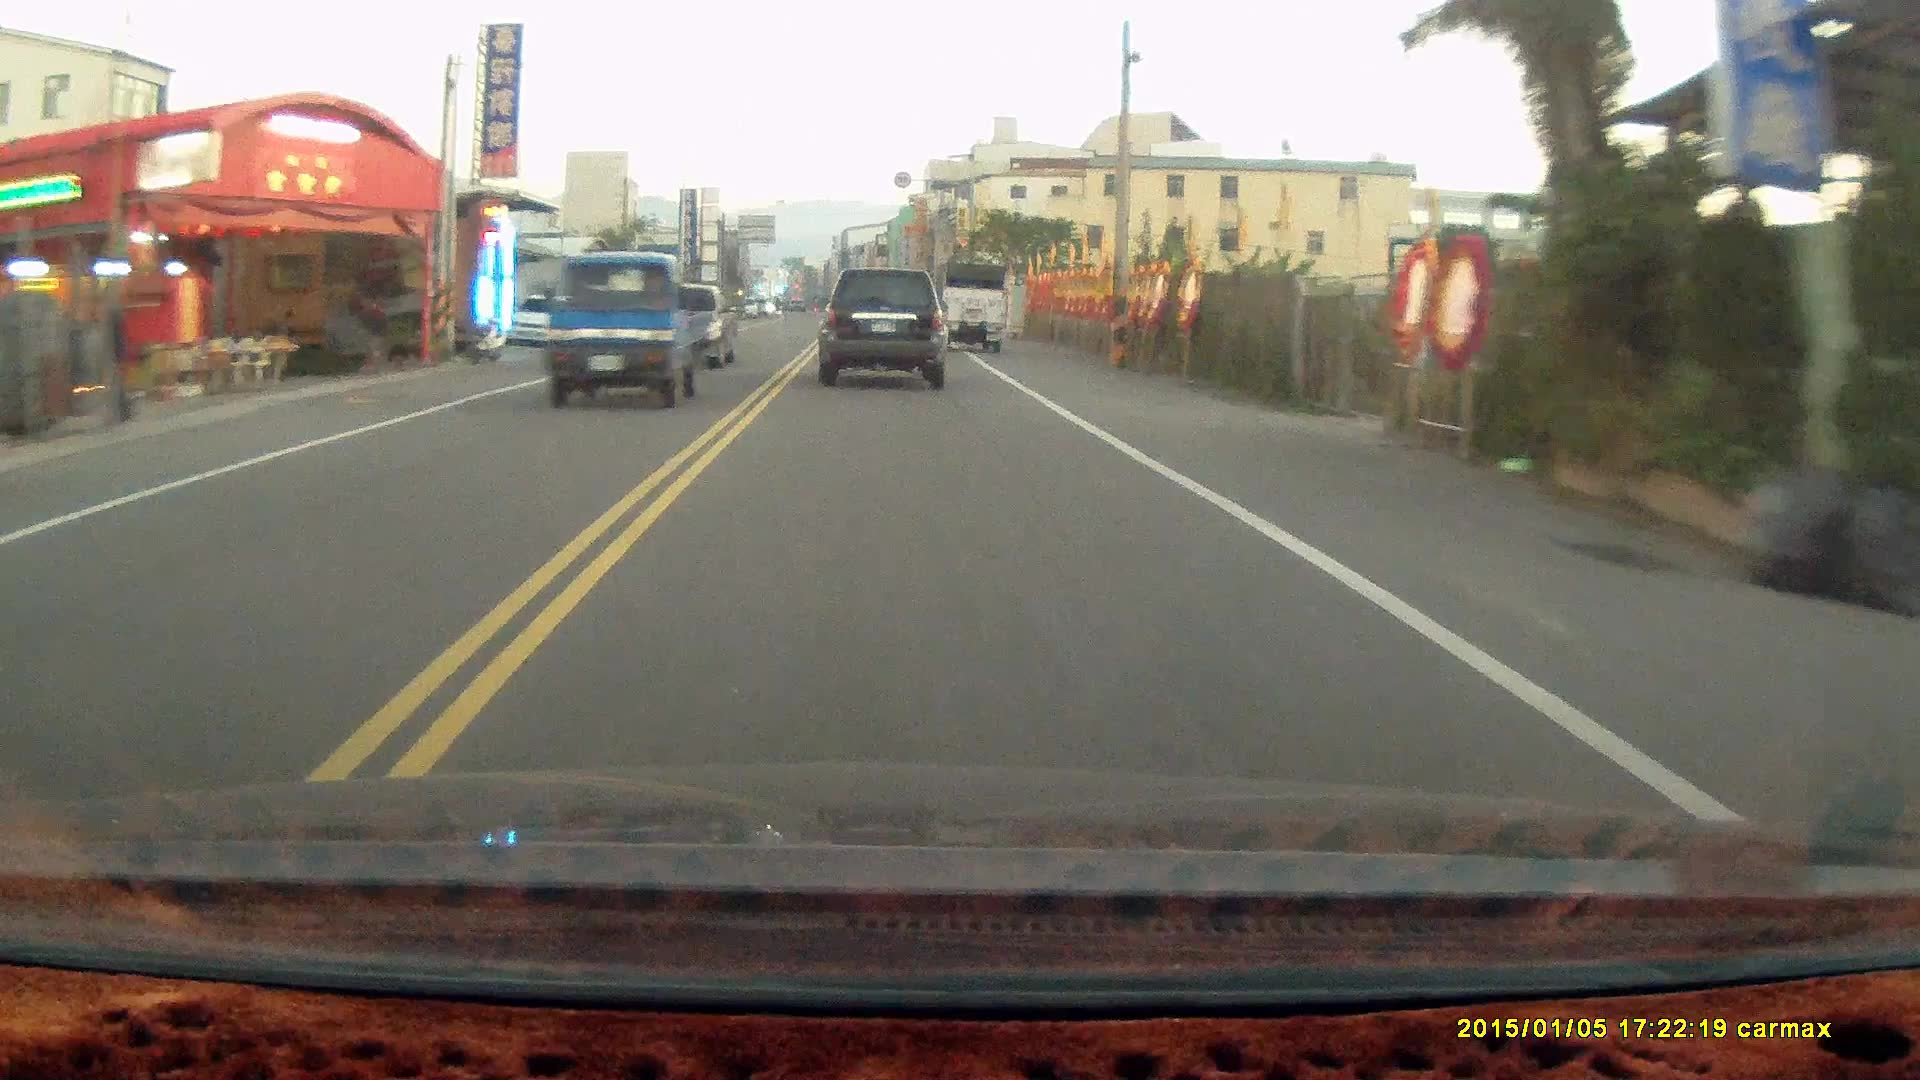vehicle: (531, 258, 727, 411), (820, 265, 957, 392), (938, 264, 1013, 359), (517, 297, 584, 353)
